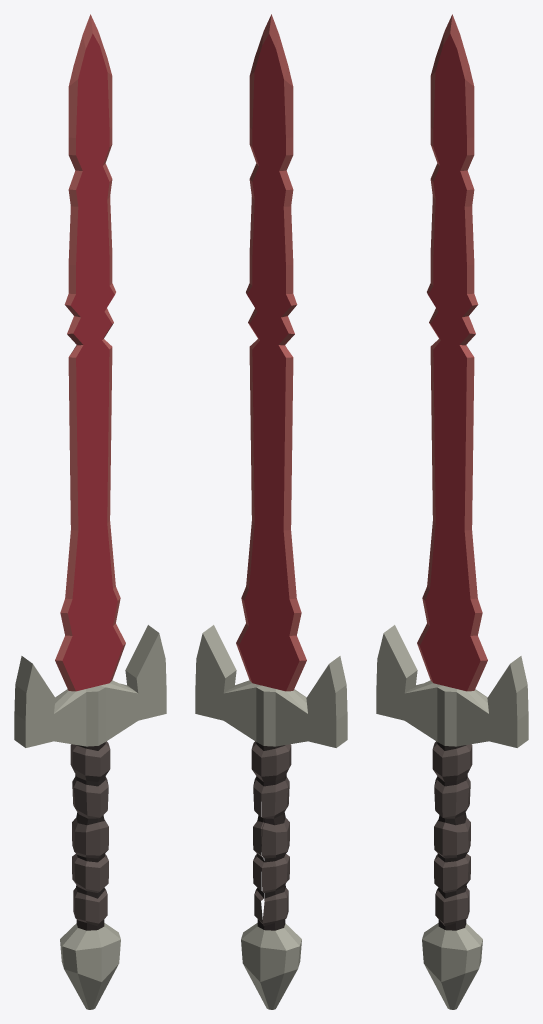
Rendered from Q_Claymore-B-j69j6Y.glb.
3 renders of one model, left to right at view 1: azimuth 30°, elevation 25°; view 2: azimuth 150°, elevation 25°; view 3: azimuth 330°, elevation 25°, orthographic.
Parts seen in each view (by area): view 1: Claymore; view 2: Claymore; view 3: Claymore.
Boxes of the visible parts, x1=… form: Claymore: x1=14, y1=14, x2=166, y2=1009; Claymore: x1=195, y1=14, x2=347, y2=1009; Claymore: x1=376, y1=14, x2=528, y2=1009.
Bounding box in the file's own units: 0.9779 × 6.59 × 0.2713.
